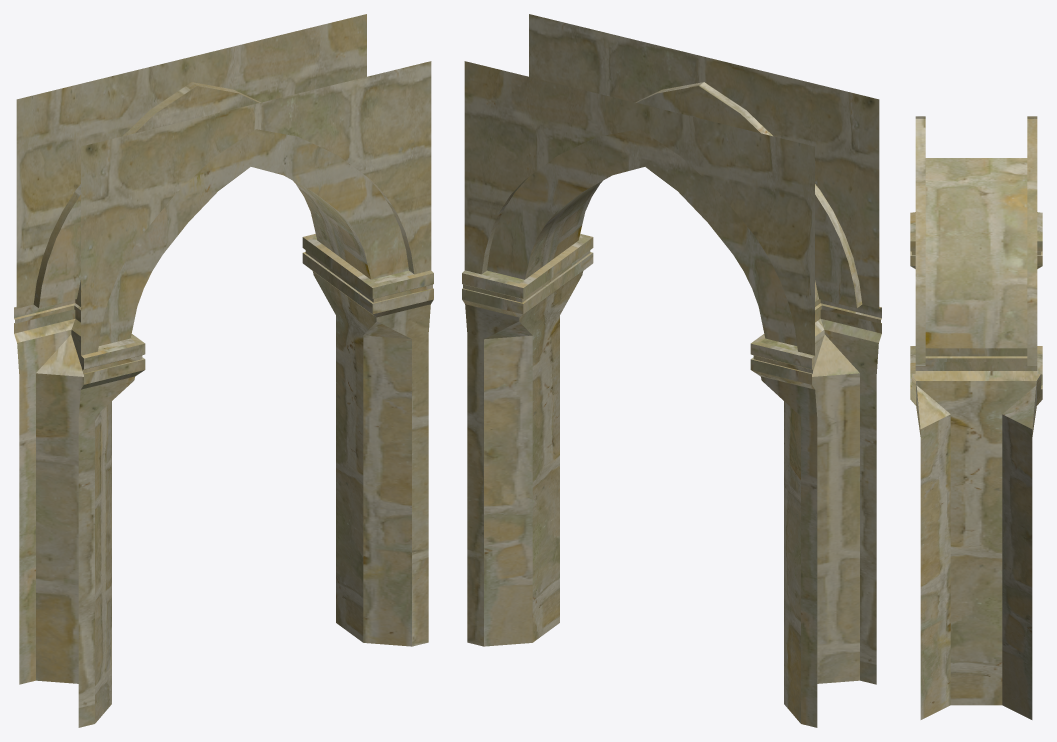
File: MosqueArches.fbx
The picture shows the model from 3 angles, left to right: view 1: azimuth 30°, elevation 25°; view 2: azimuth 150°, elevation 25°; view 3: azimuth 270°, elevation 25°; orthographic projection. The views are drawn at different scales.
Visible parts, largest first — view 1: Circle.003; view 2: Circle.003; view 3: Circle.003.
Part boxes in pixels (left/top/right/bottom): Circle.003: left=14, top=14, right=433, bottom=727; Circle.003: left=462, top=14, right=881, bottom=727; Circle.003: left=910, top=116, right=1042, bottom=719.
Bounding box in the file's own units: 751 × 1196 × 260.
